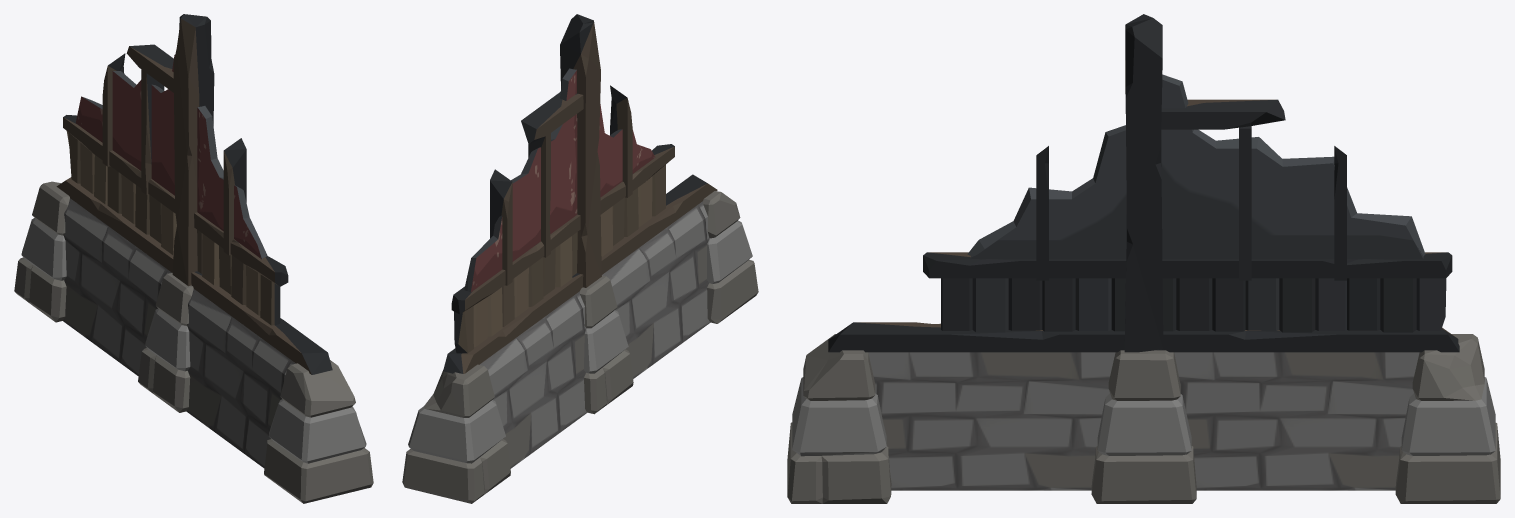
Rendered from SM_Prop_Destroyed_House_Piece_06_Burnt.fbx.
The picture shows the model from 3 angles, left to right: view 1: azimuth 30°, elevation 25°; view 2: azimuth 150°, elevation 25°; view 3: azimuth 270°, elevation 25°; orthographic projection. The views are drawn at different scales.
Visible parts, largest first — view 1: SM_Prop_Destroyed_House_Piece_06_Burnt; view 2: SM_Prop_Destroyed_House_Piece_06_Burnt; view 3: SM_Prop_Destroyed_House_Piece_06_Burnt.
Part boxes in pixels (<box>): SM_Prop_Destroyed_House_Piece_06_Burnt: <box>14,14,373,503</box>; SM_Prop_Destroyed_House_Piece_06_Burnt: <box>402,14,758,503</box>; SM_Prop_Destroyed_House_Piece_06_Burnt: <box>787,14,1500,503</box>.
Bounding box in the file's own units: 85.25 × 420 × 586.
Materials: 1 (1 with a texture image).
